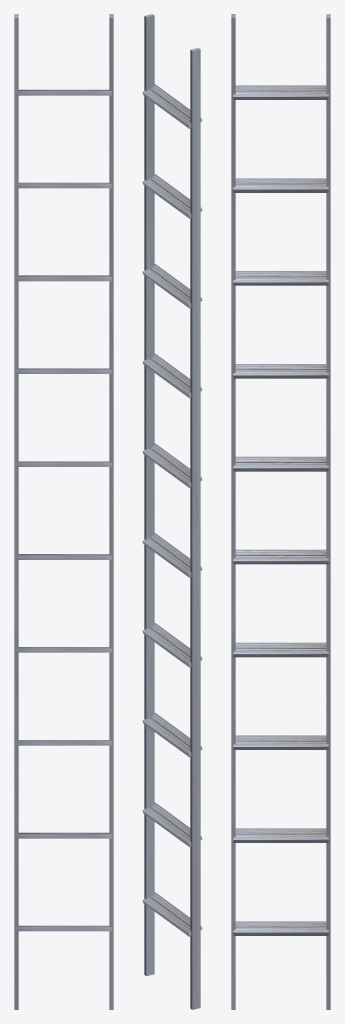
The model's file is ladder.glb.
The picture shows the model from 3 angles, left to right: view 1: azimuth 90°, elevation 25°; view 2: azimuth 210°, elevation 25°; view 3: azimuth 270°, elevation 25°; orthographic projection. The views are drawn at different scales.
Parts seen in each view (by area): view 1: Object_2; view 2: Object_2; view 3: Object_2.
Boxes of the visible parts, bbox=[...] form: Object_2: bbox=[14, 14, 113, 1009]; Object_2: bbox=[142, 14, 202, 1009]; Object_2: bbox=[231, 14, 330, 1009].
Bounding box in the file's own units: 0.0775 × 5 × 0.455.
Materials: 1 (1 with a texture image).
